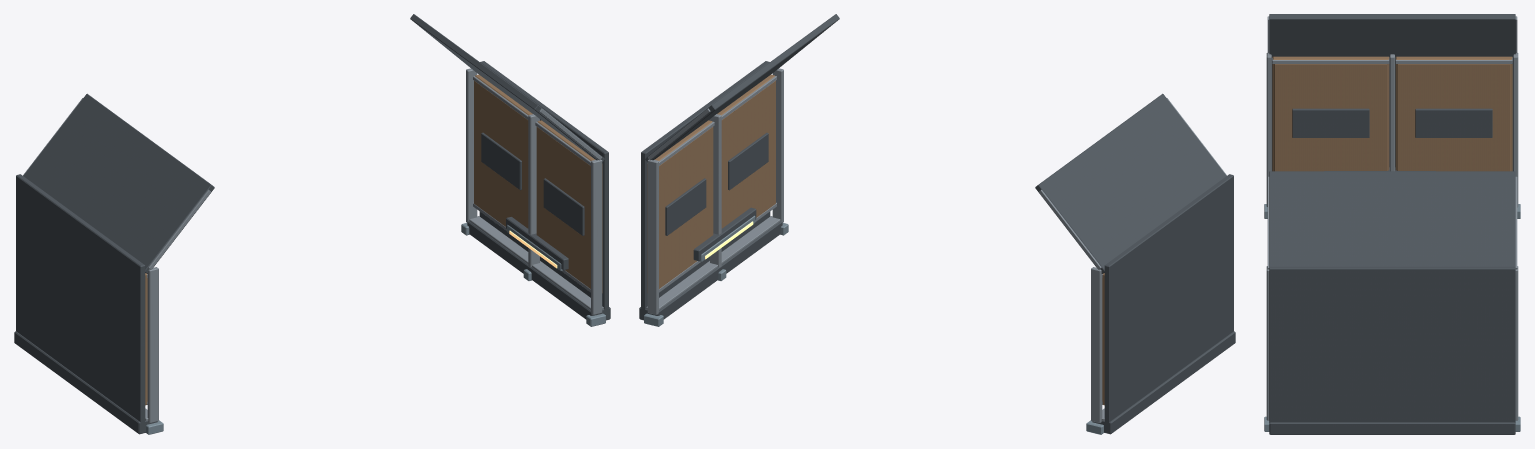
The model's file is NA_GalleryWallBay_L_G02_LOD1.fbx.
3 renders of one model, left to right at view 1: azimuth 30°, elevation 25°; view 2: azimuth 150°, elevation 25°; view 3: azimuth 270°, elevation 25°, orthographic.
Parts seen in each view (by area): view 1: NA_GalleryWallBay_L_G02_LOD1; view 2: NA_GalleryWallBay_L_G02_LOD1; view 3: NA_GalleryWallBay_L_G02_LOD1.
Boxes of the visible parts, bbox=[...] form: NA_GalleryWallBay_L_G02_LOD1: bbox=[14, 14, 610, 434]; NA_GalleryWallBay_L_G02_LOD1: bbox=[639, 14, 1235, 434]; NA_GalleryWallBay_L_G02_LOD1: bbox=[1264, 14, 1520, 434].
Size of the model in its own units: 30.21 by 14.22 by 14.4.
